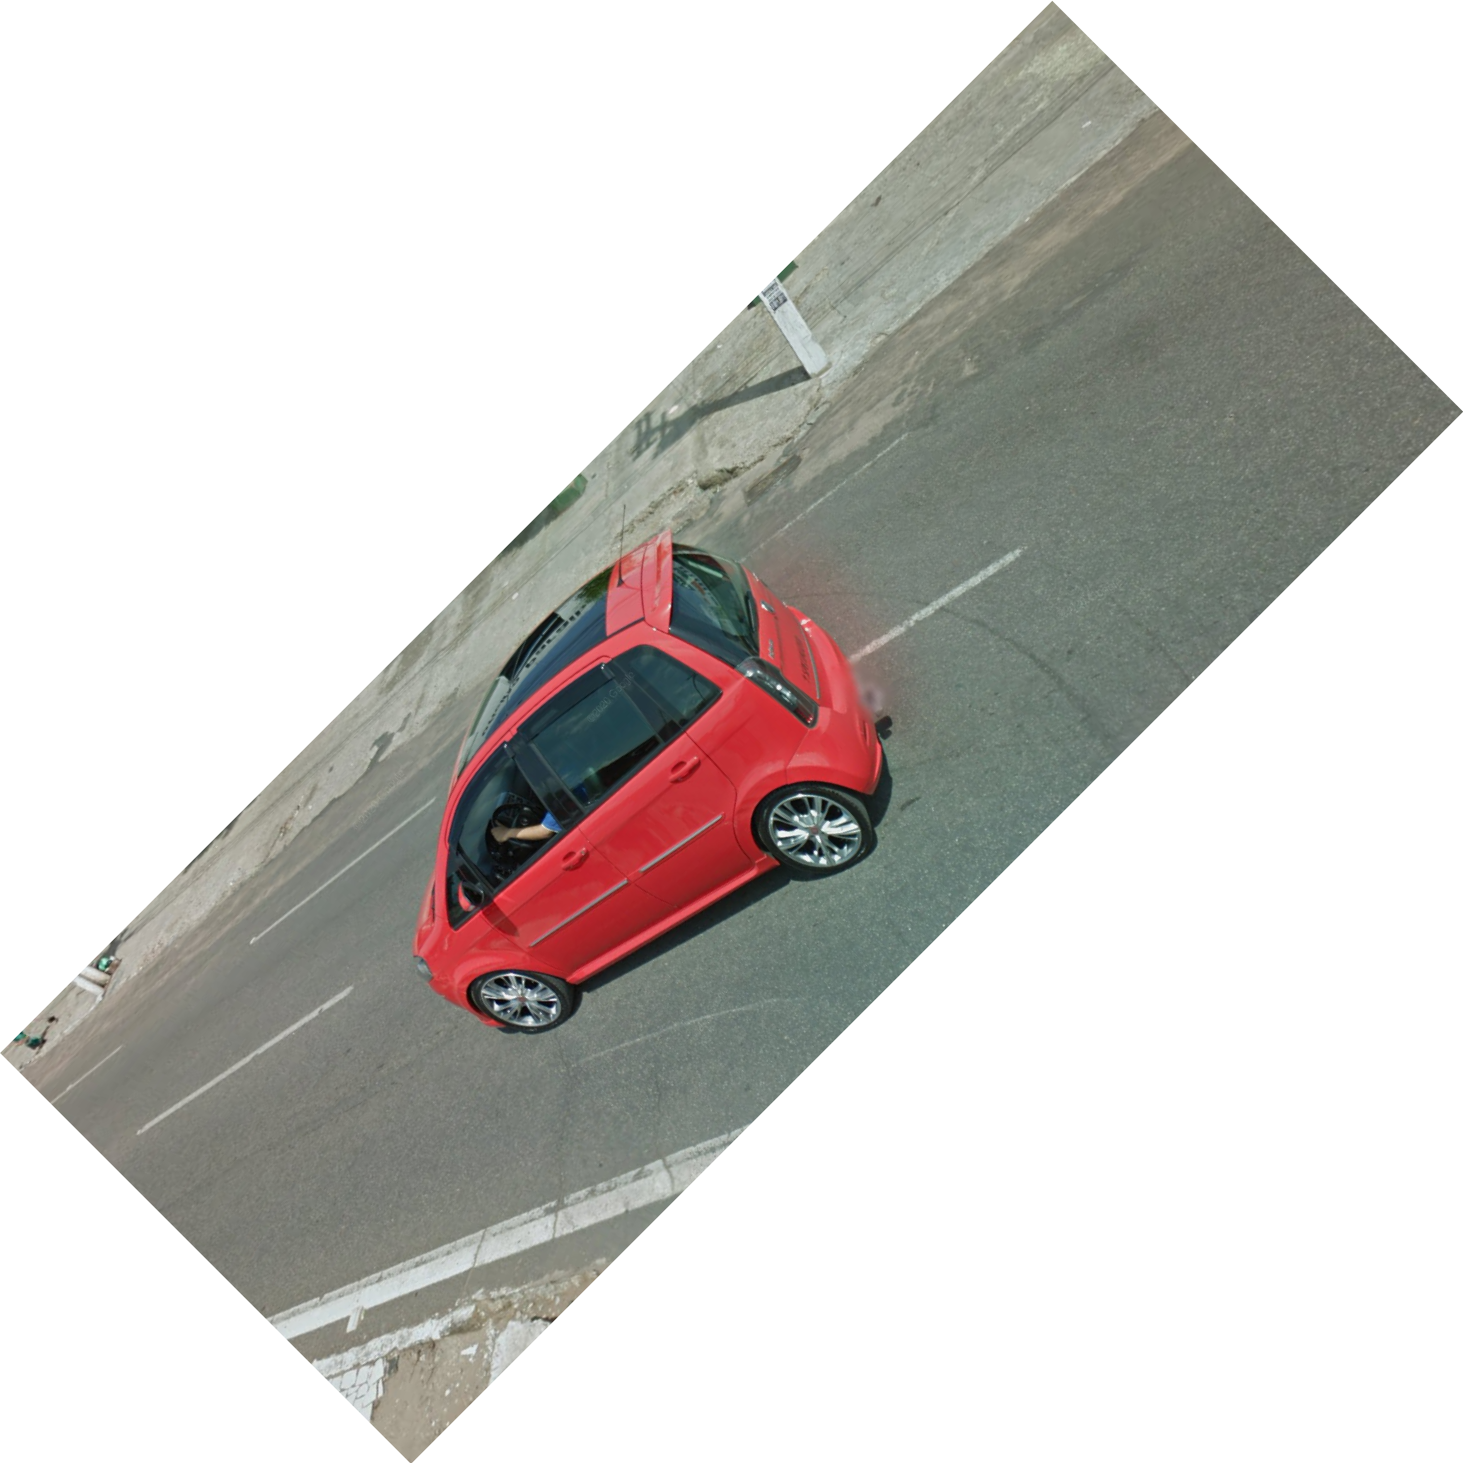car: (407, 497, 907, 1057)
